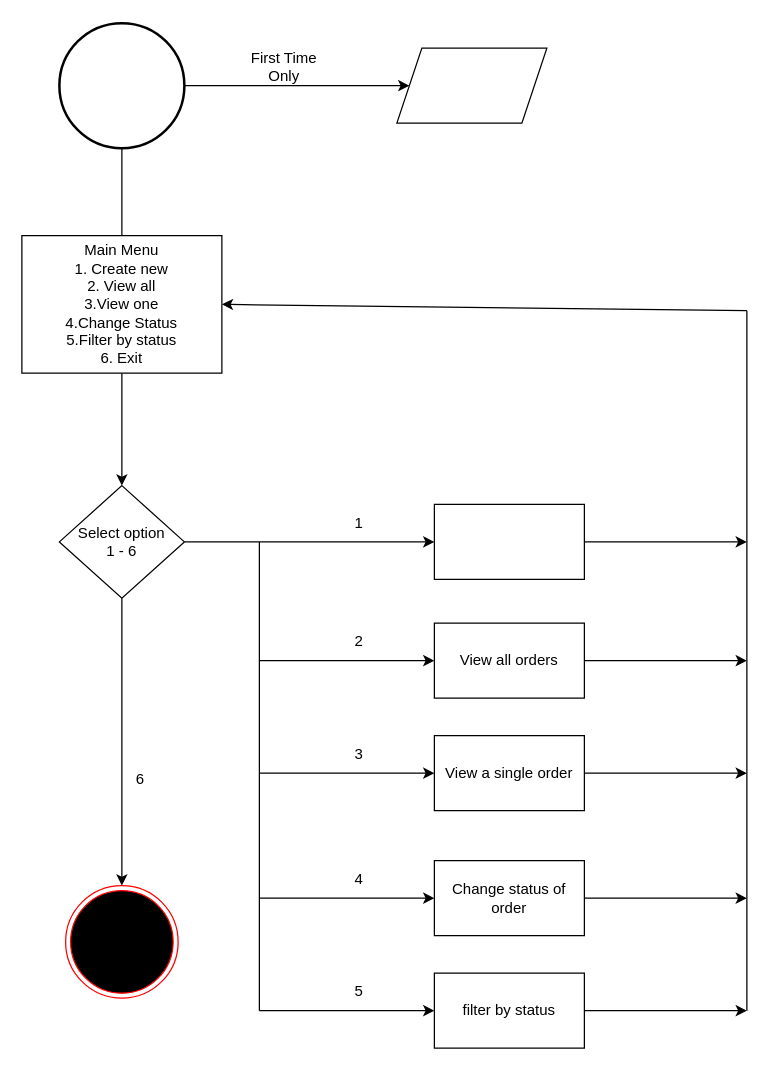
The diagram is 779 pixels wide and 1070 high, and some of its shapes have lost their labels. Each missing label, with the centre of its shape:
"Create new work order." goes at point 508,541.
"DBCreated" goes at point 471,85.
